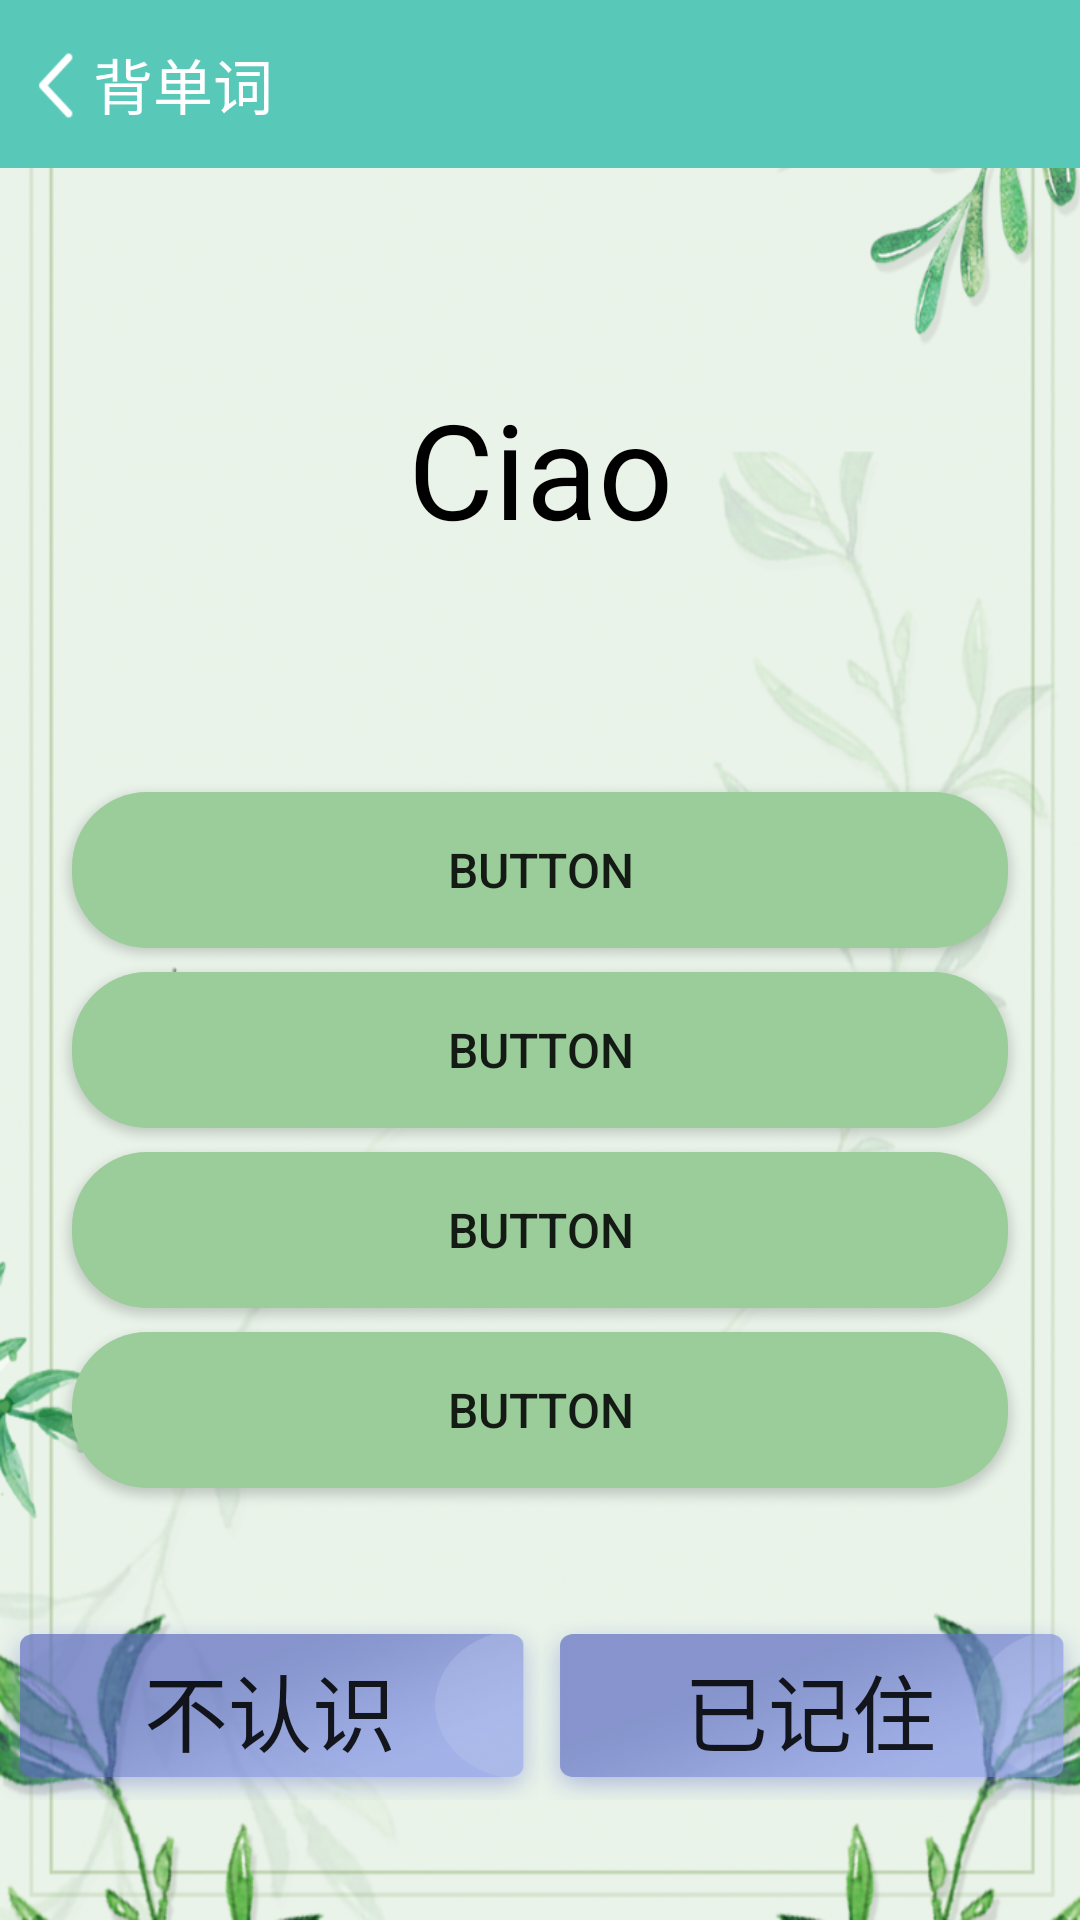

Icon bounding boxes for this 1080x1920 phone screenshot, format BBox(x1, y1, x2, y2):
back: BBox(39, 53, 114, 118)
